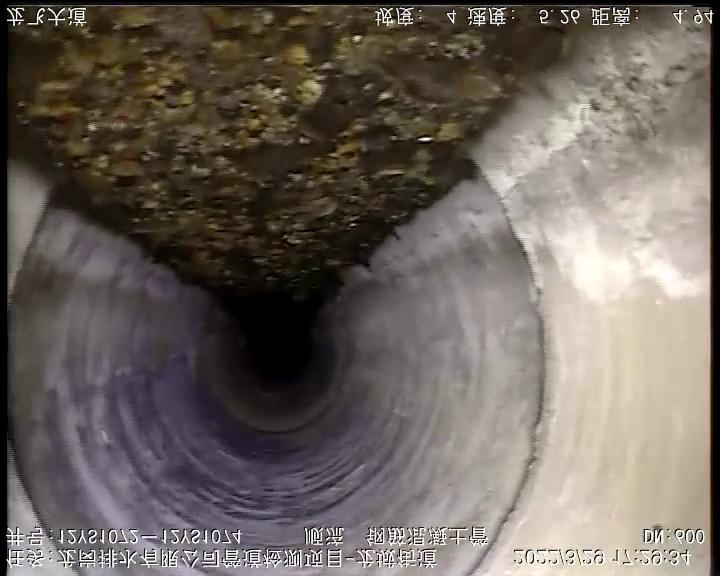CJ: (8, 7, 634, 309)
